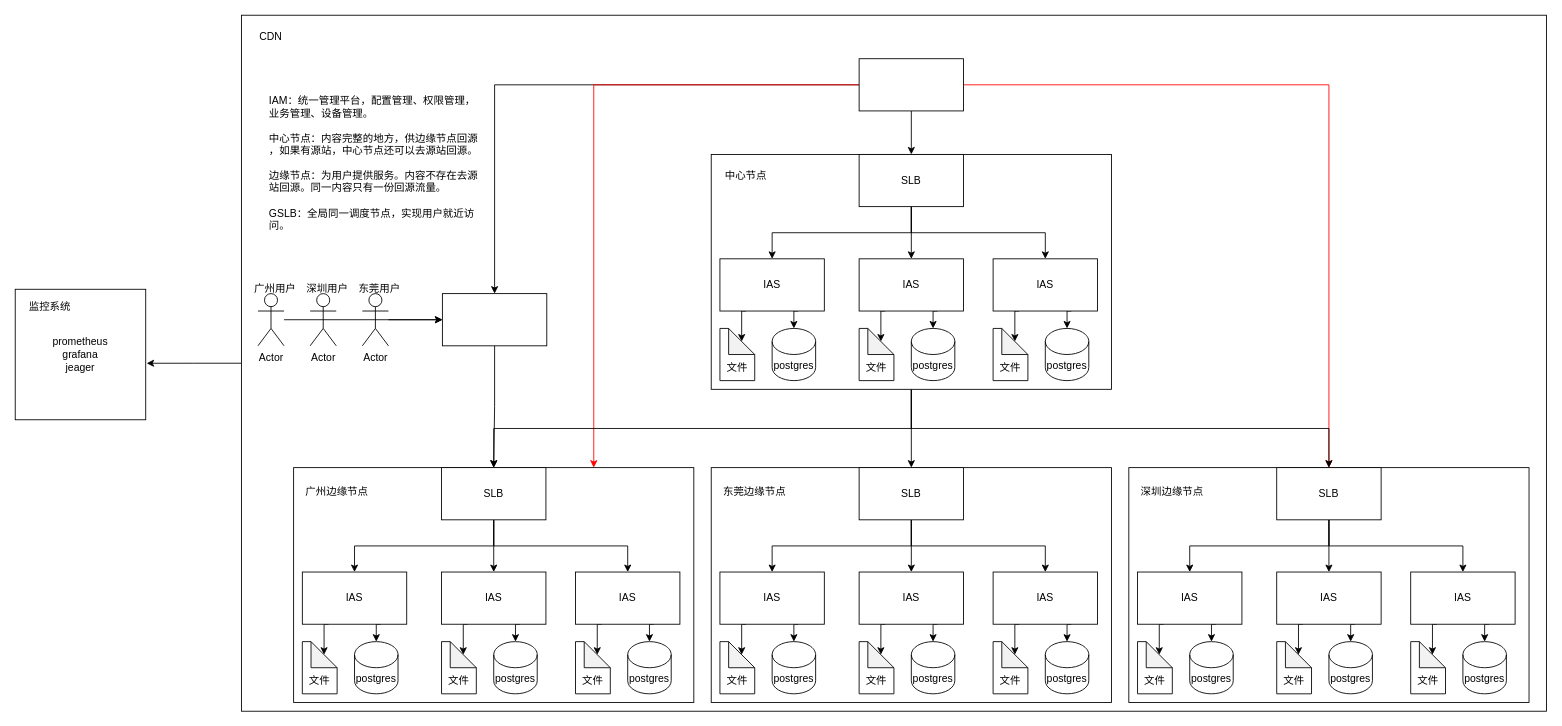
The diagram is 1562 pixels wide and 726 high, and some of its shapes have lost their labels. Each missing label, with the centre of its shape:
GSLB: (x=494, y=319)
IAM: (x=911, y=84)
